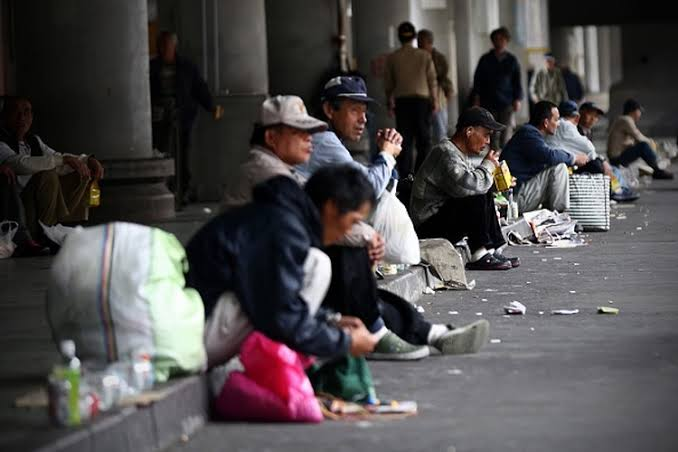gelandangan: (38, 164, 421, 429)
